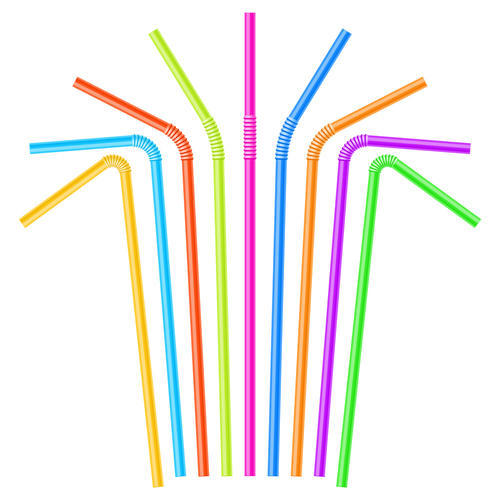Drinking Straw: (334, 151, 484, 492), (240, 10, 260, 479)
